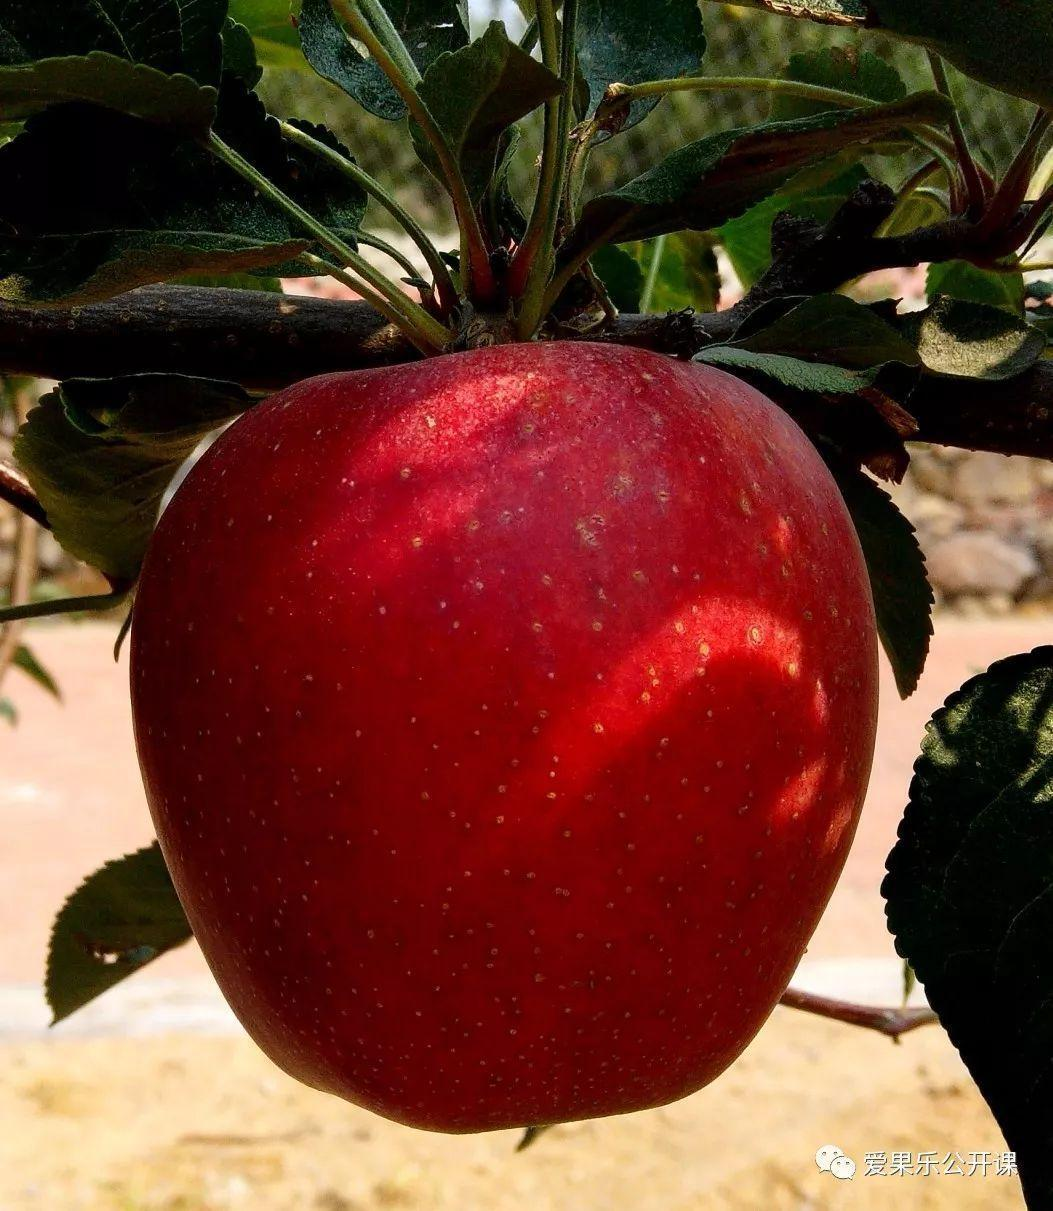apple: (122, 335, 880, 1135)
